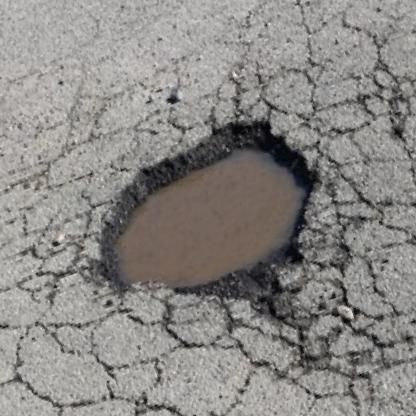pothole: (68, 98, 343, 321)
